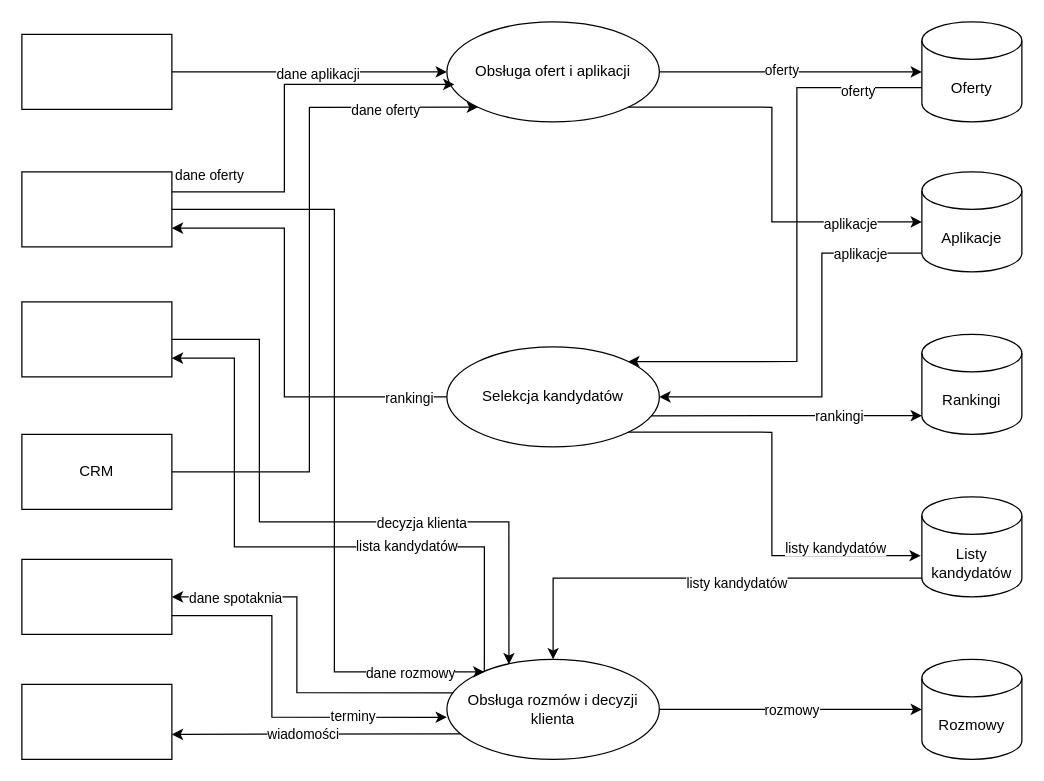
Image size: 1044x781. Some labels were removed from this diagram. Here are the shapes that lost their labels. From the top down, the box of each, then its label:
(21, 33, 172, 109): Kandydat
(21, 171, 172, 247): Rekruter
(21, 301, 172, 377): Klient
(21, 558, 172, 634): Google Calendar
(21, 683, 172, 759): System poczty e-mail
